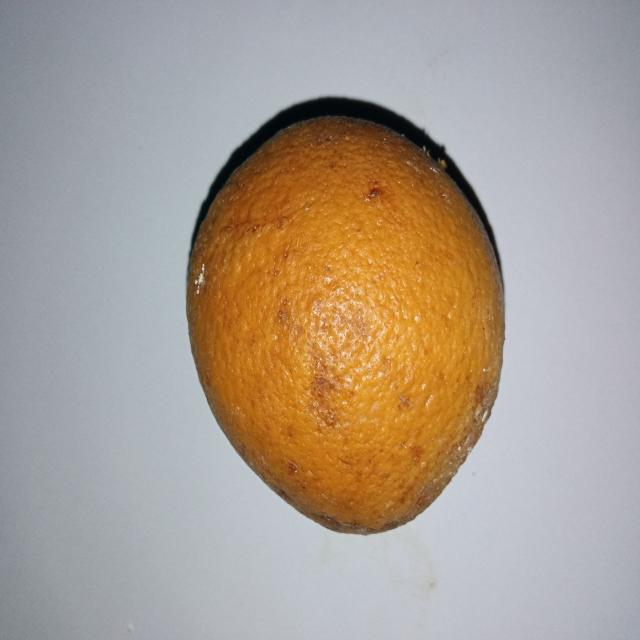rotten_orange: (184, 114, 500, 537)
